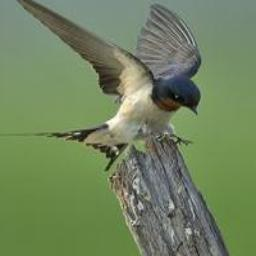Swallow: (0, 0, 202, 170)
